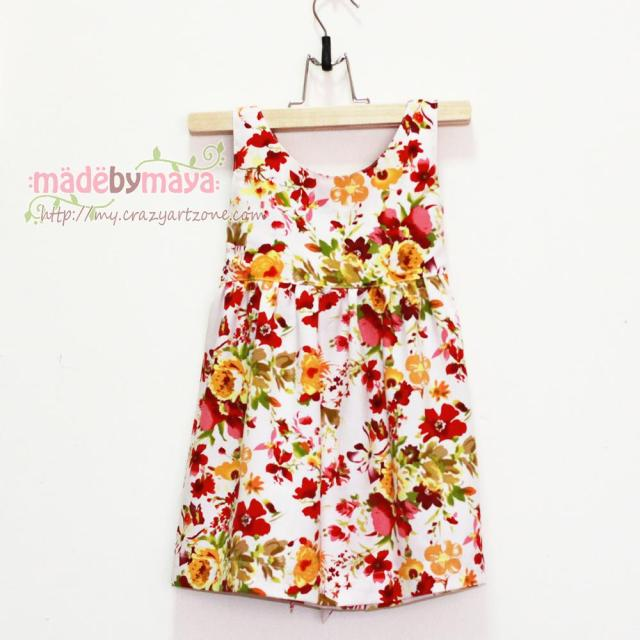Dress: (178, 141, 494, 615)
